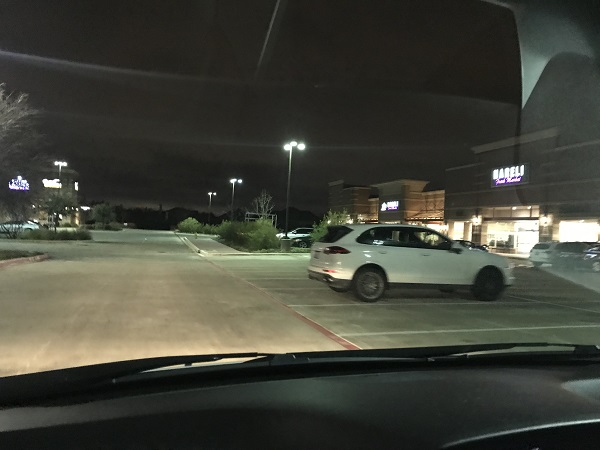car: (308, 222, 517, 302), (556, 240, 600, 272), (275, 220, 318, 244), (528, 242, 557, 266)
